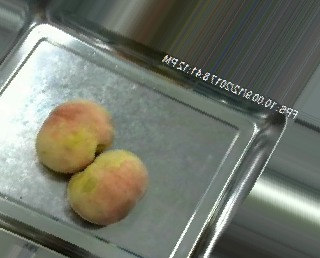Peach: (67, 148, 148, 225), (35, 97, 111, 172)
